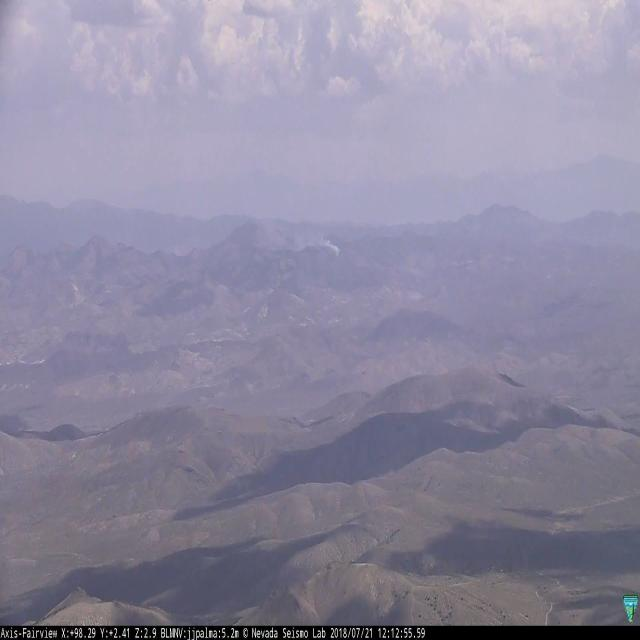smoke: (298, 229, 340, 256)
